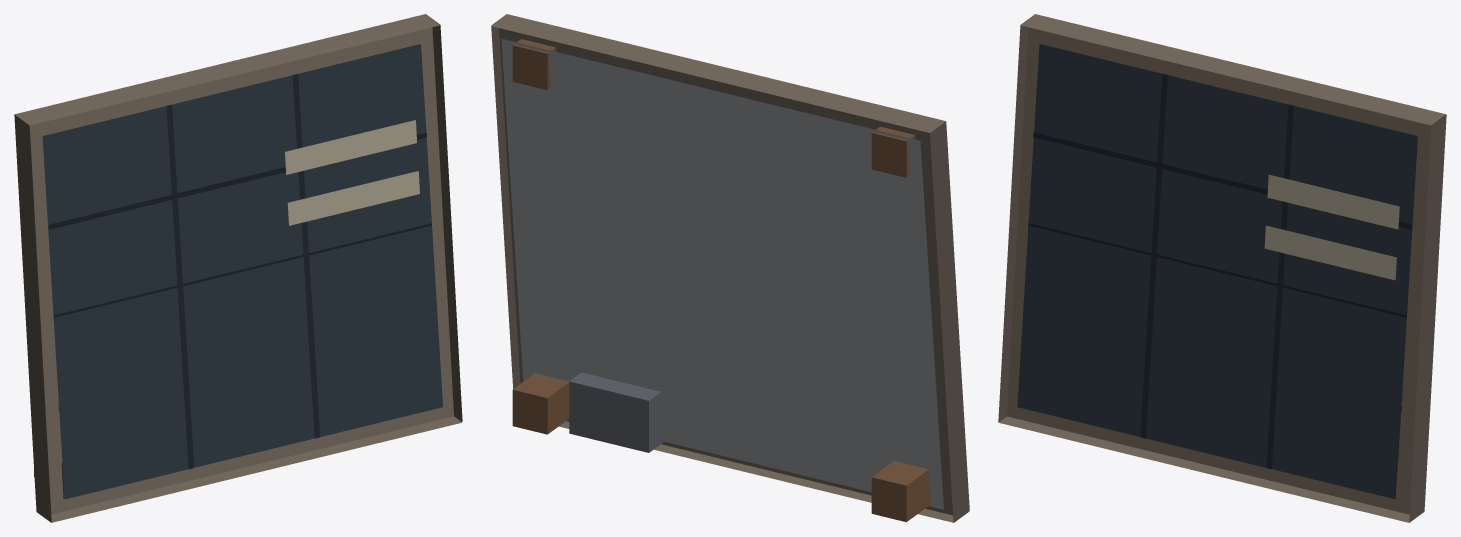
The model's file is array_flat_makeshift_clear_S.obj.
The picture shows the model from 3 angles, left to right: view 1: azimuth 30°, elevation 25°; view 2: azimuth 150°, elevation 25°; view 3: azimuth 330°, elevation 25°; orthographic projection. The views are drawn at different scales.
Visible parts, largest first — view 1: array_flat_makeshift_clear_S; view 2: array_flat_makeshift_clear_S; view 3: array_flat_makeshift_clear_S.
Part boxes in pixels (x1,y1,x2,y2): array_flat_makeshift_clear_S: (14, 14, 462, 522); array_flat_makeshift_clear_S: (491, 14, 969, 522); array_flat_makeshift_clear_S: (998, 14, 1446, 522).
Bounding box in the file's own units: 0.881 × 0.781 × 0.142.
1 material, 1 textured.
